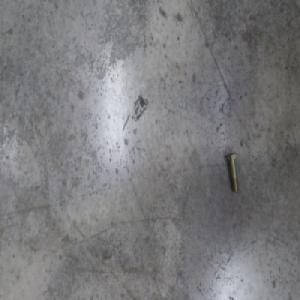Bolt: (226, 150, 240, 193)
